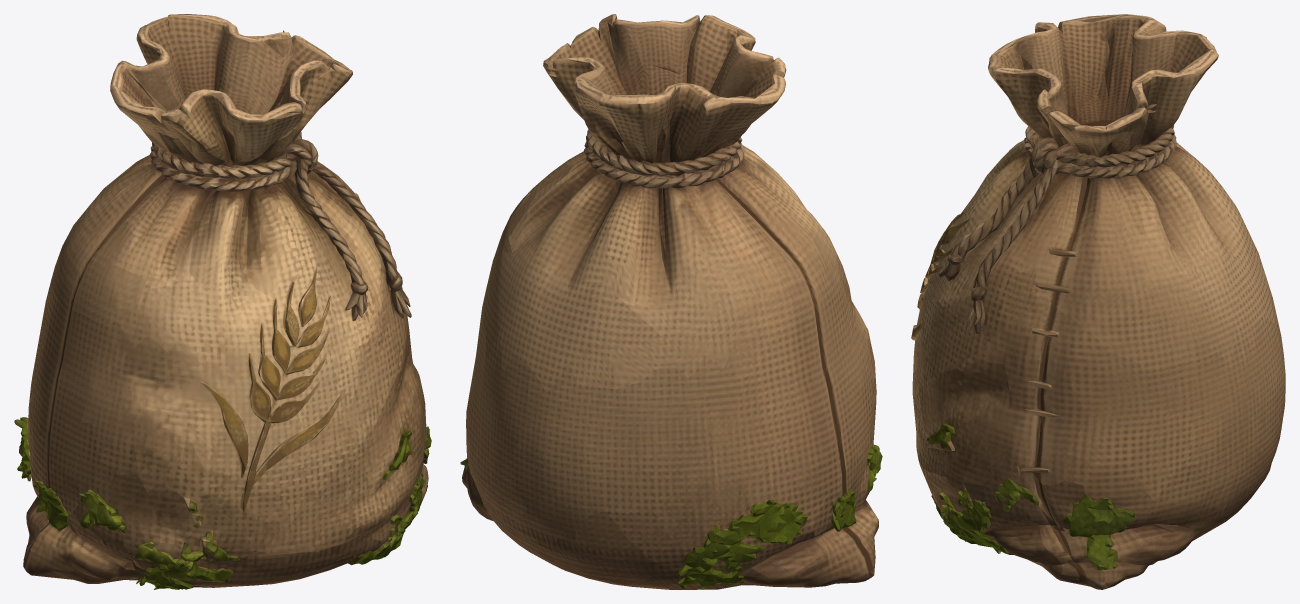
Rendered from sack_v2.glb.
The picture shows the model from 3 angles, left to right: view 1: azimuth 30°, elevation 25°; view 2: azimuth 150°, elevation 25°; view 3: azimuth 270°, elevation 25°; orthographic projection. The views are drawn at different scales.
Bounding box in the file's own units: 1.7 × 1.9 × 1.43.
1 material, 1 textured.
